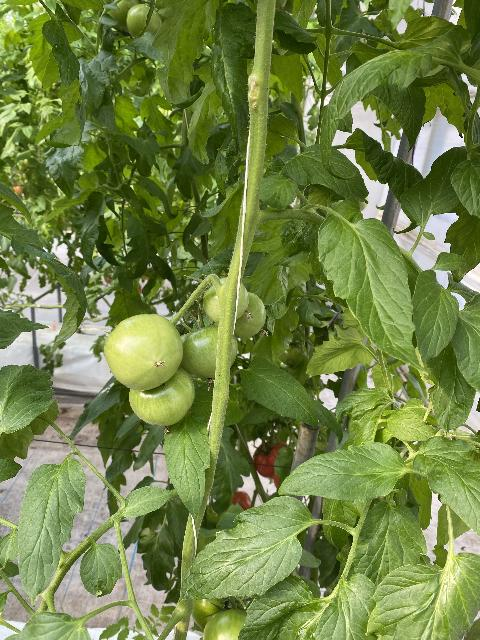b_fully_ripened: (253, 441, 289, 479)
b_green: (105, 313, 183, 391), (129, 368, 196, 426), (178, 325, 238, 380), (203, 277, 249, 324), (190, 596, 249, 631), (233, 292, 266, 338), (202, 609, 247, 640), (127, 3, 162, 39)
